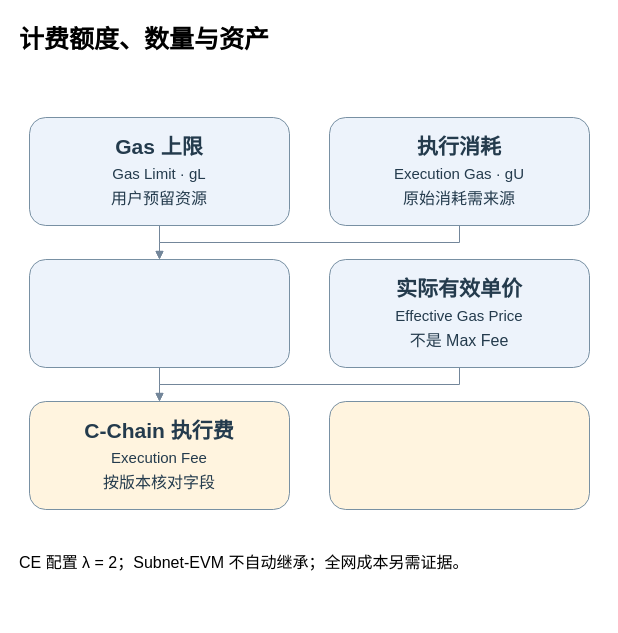
The diagram is 618 pixels wide and 633 high, and some of its shapes have lost their labels. The centre of each missing label's shape, as x and y in pixels:
"C-Chain 计费 Gas Charged · gC max(gU, gL / λ)" goes at [159,313].
"其他成本分账 Other Costs P 费用 · L1 Gas · 运维" goes at [459,455].
